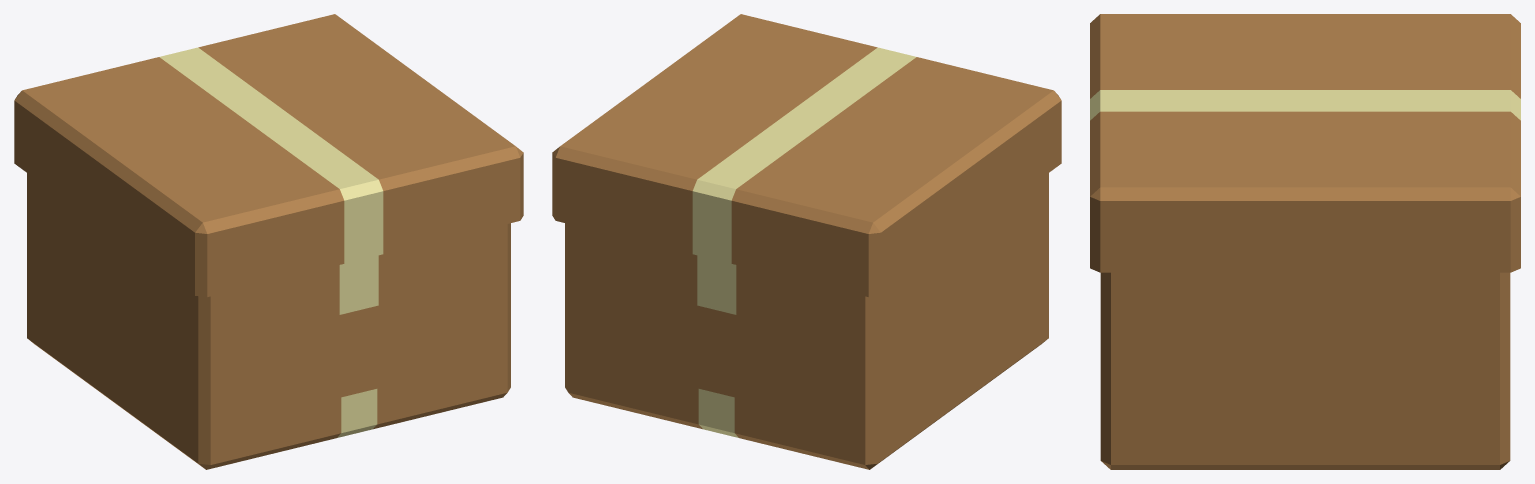
Rendered from carton2.fbx.
The picture shows the model from 3 angles, left to right: view 1: azimuth 30°, elevation 25°; view 2: azimuth 150°, elevation 25°; view 3: azimuth 270°, elevation 25°; orthographic projection. The views are drawn at different scales.
Visible parts, largest first — view 1: Cardboard.030_Cube.039; view 2: Cardboard.030_Cube.039; view 3: Cardboard.030_Cube.039.
Part boxes in pixels (x1,y1,x2,y2): Cardboard.030_Cube.039: (14,14,523,469); Cardboard.030_Cube.039: (552,14,1061,469); Cardboard.030_Cube.039: (1090,14,1520,469).
Bounding box in the file's own units: 47.8 × 35.12 × 47.8.
